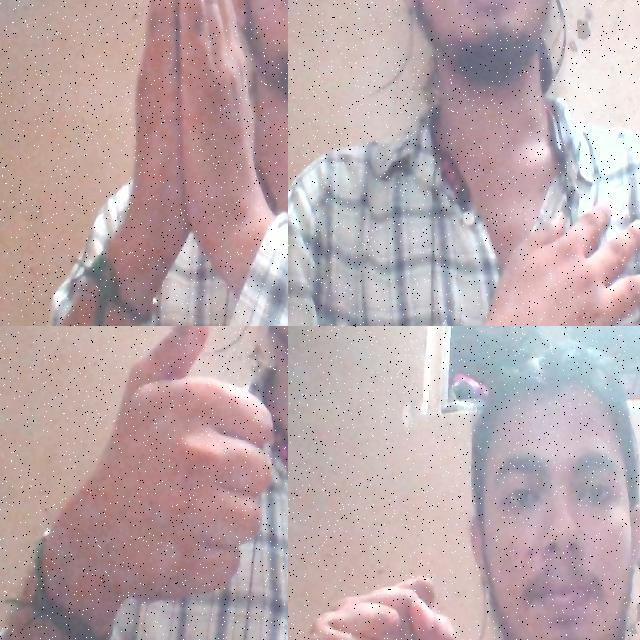I love u: (423, 202, 640, 326)
No: (288, 554, 488, 640)
Thank You: (105, 0, 285, 291)
Yes: (87, 326, 277, 604)
